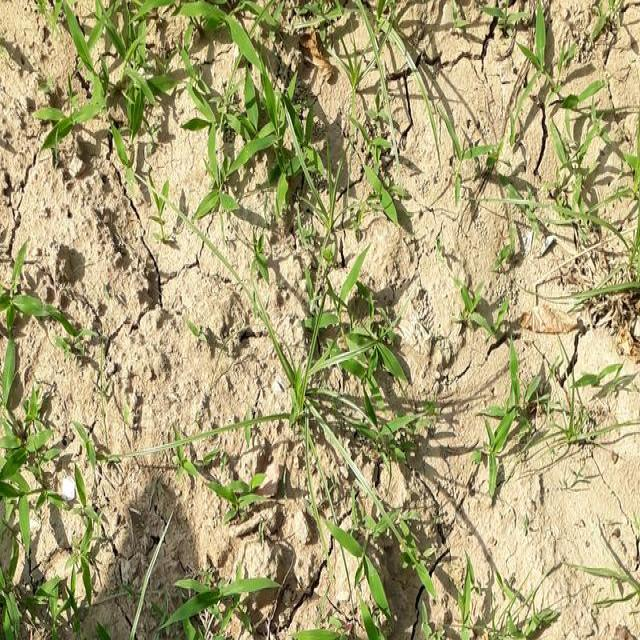weed: (260, 281, 430, 640), (65, 0, 322, 230)
